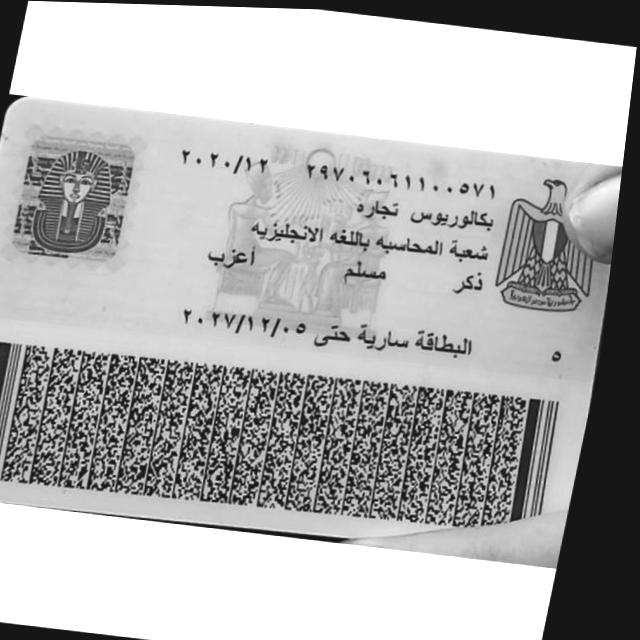back: (0, 96, 608, 536)
